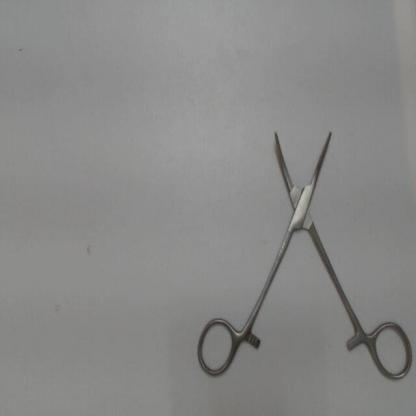Crile Artery Forceps: (194, 123, 415, 386)
